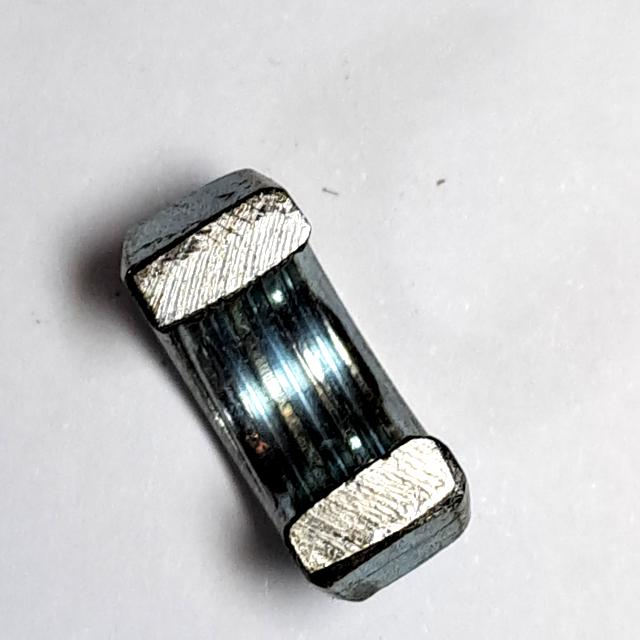Side-Fracture: (102, 147, 482, 610)
